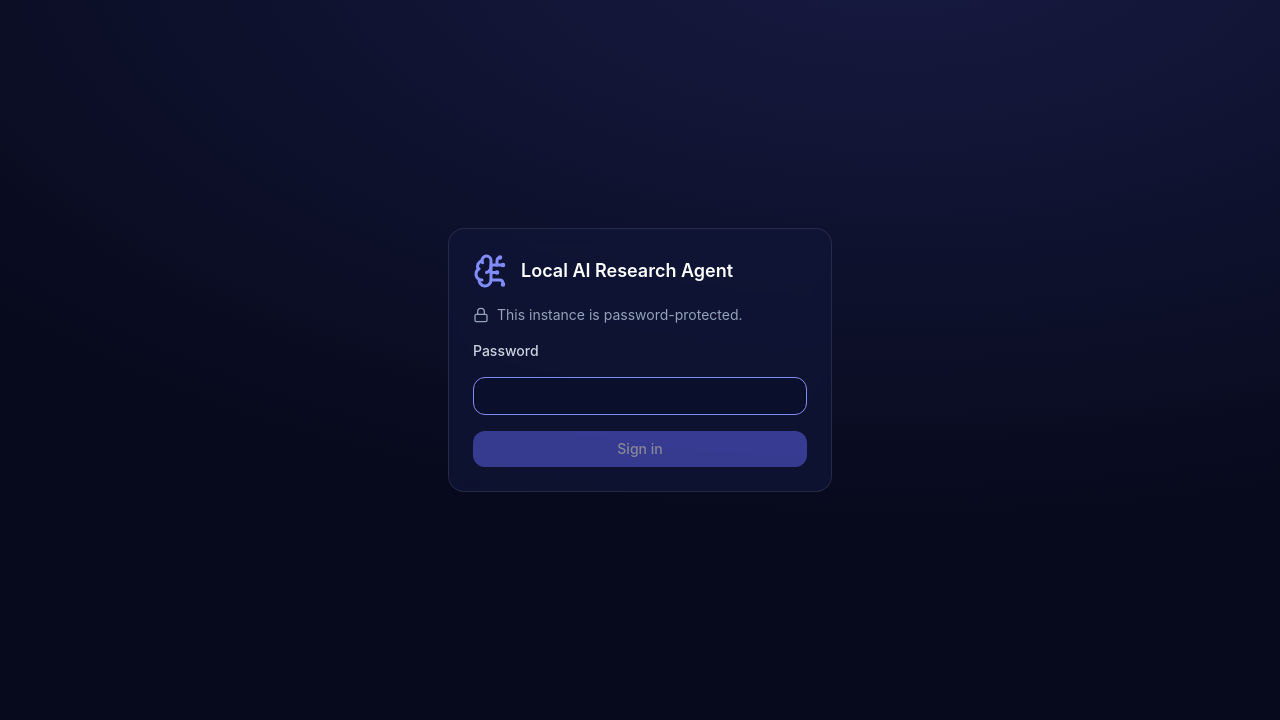
Test: password-protected deployment › shows the login page, rejects a wrong password, then signs in
Expected: the text "This instance is password-protected." is shown, [473,306,742,323]
Type "wrong" into the password field labelled "Password" at x=640, y=396, box [473,377,807,415]
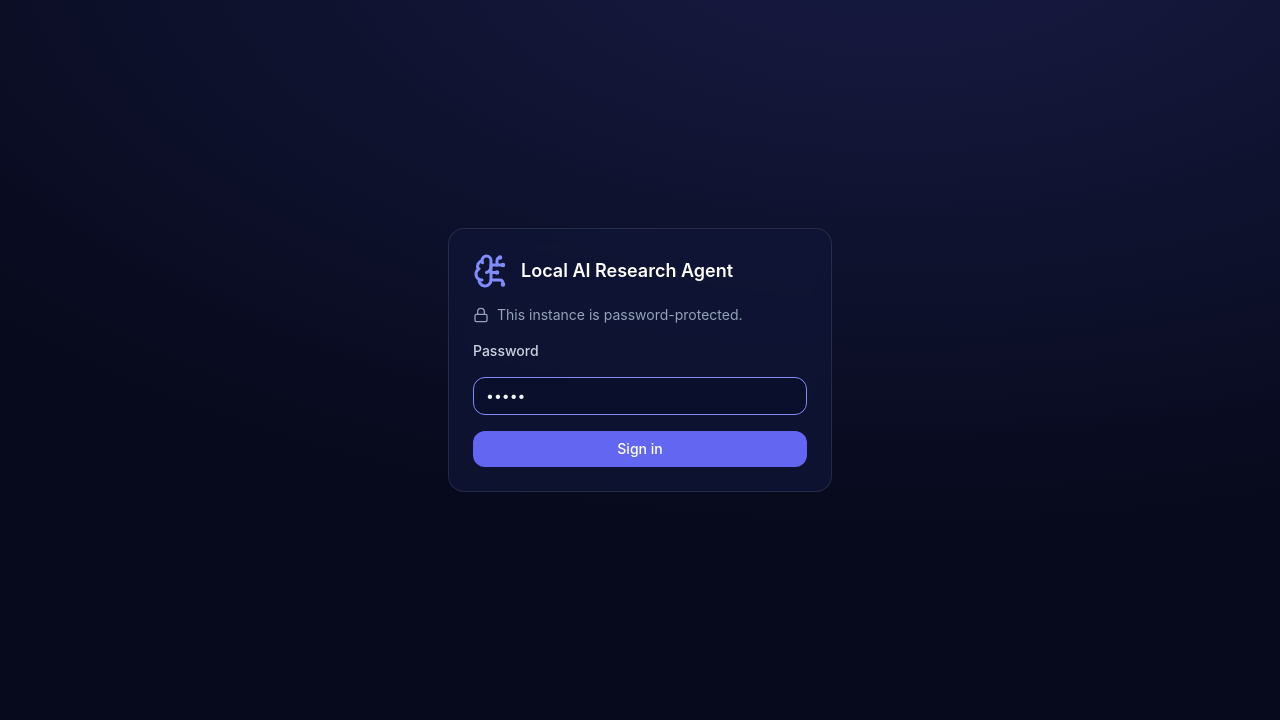
Click the button "Sign in" at x=640, y=449, box [473,431,807,467]
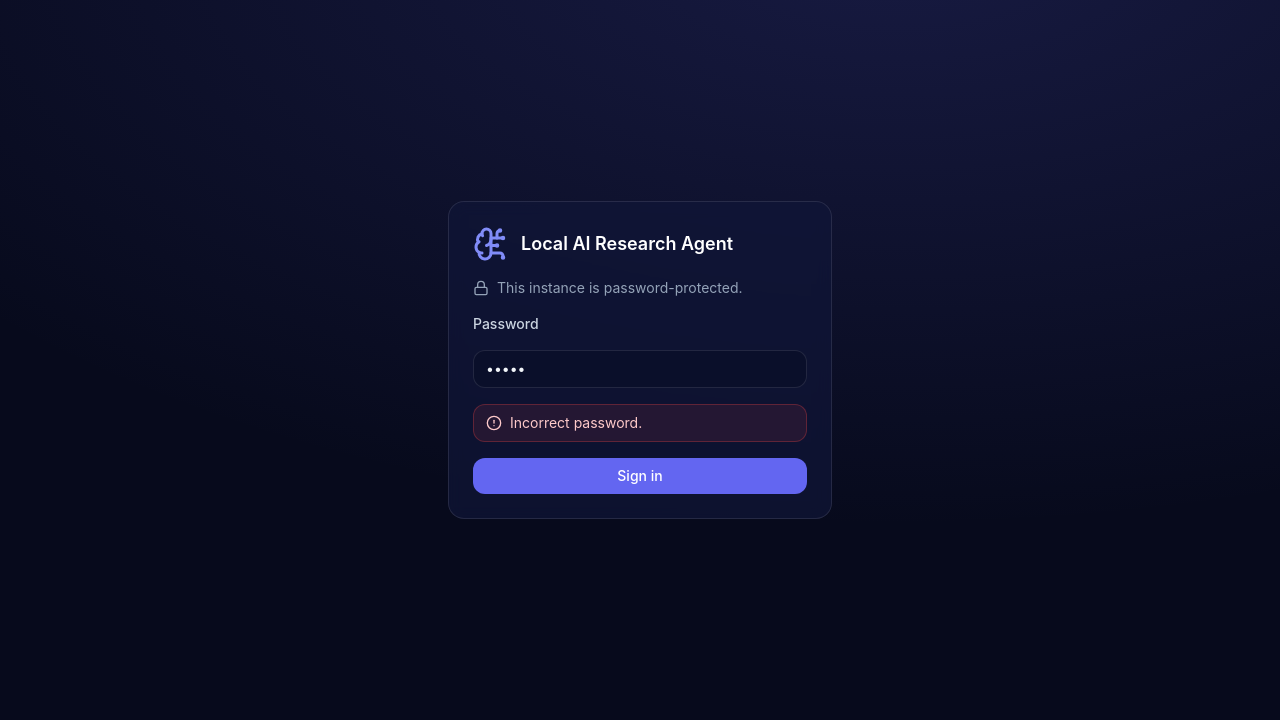
Now the message shows "Incorrect password", box [510,414,642,431]
Type "right" into the password field labelled "Password" at x=640, y=369, box [473,350,807,388]
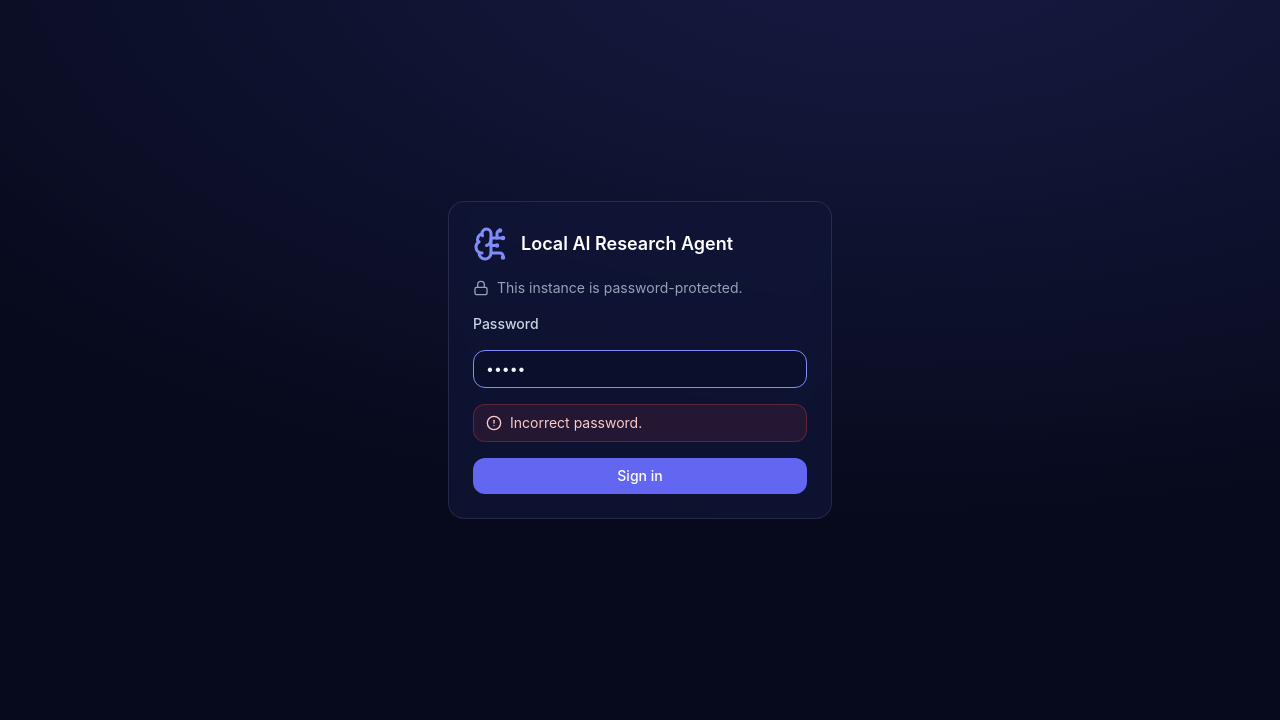
Click the button "Sign in" at x=640, y=476, box [473,458,807,494]
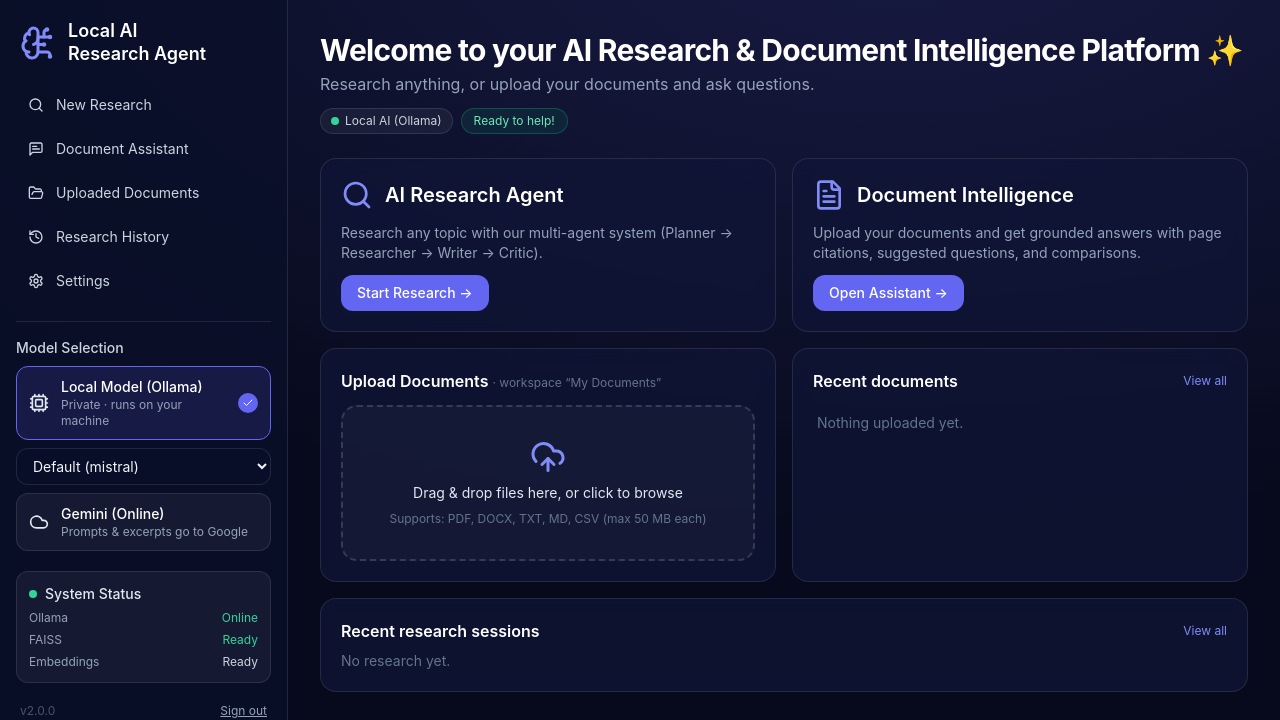
Now the heading "Welcome to your AI Research" is shown, box [320,32,1243,68]
Now the button "Sign out" is shown, box [220,703,267,719]
